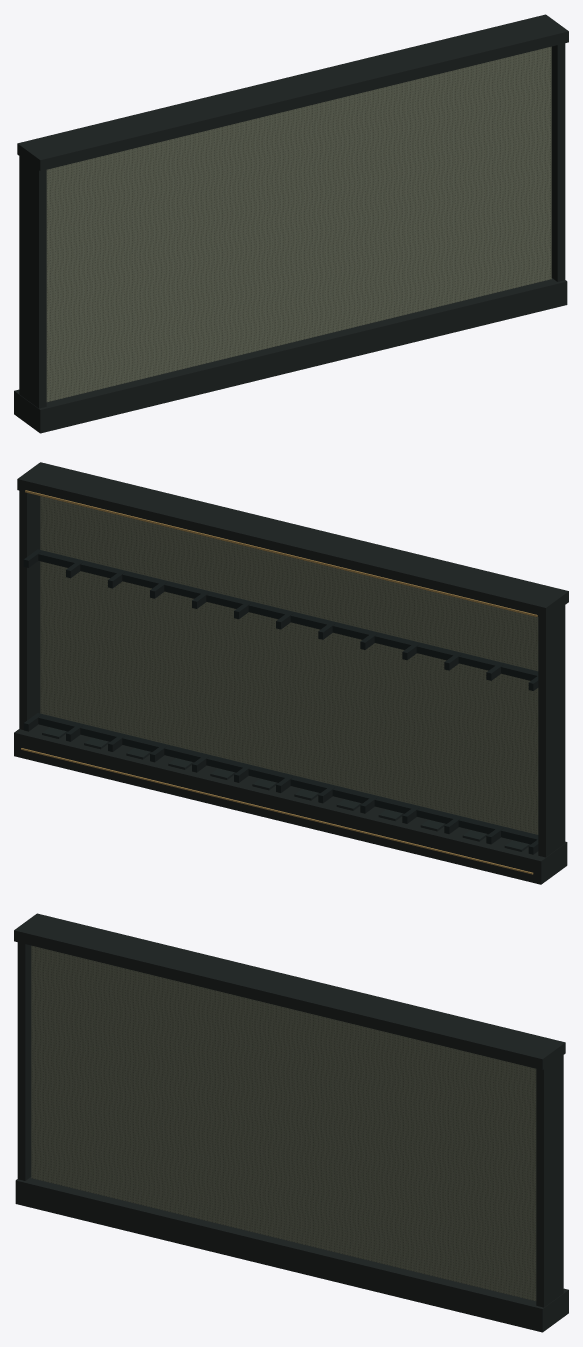
Rendered from rod_rack.glb.
3 renders of one model, top to bottom at view 1: azimuth 30°, elevation 25°; view 2: azimuth 150°, elevation 25°; view 3: azimuth 330°, elevation 25°, orthographic.
Visible parts, largest first — view 1: Pegboard_back, Top_canopy, Heavy_plinth, Oak_side, Oak_side.001; view 2: Pegboard_back, Top_canopy, Heavy_plinth, Oak_side, Back_cradle_rail, Back_cradle_rail.001, Oak_side.001, Brass_top_edge, Base_trim; view 3: Pegboard_back, Top_canopy, Heavy_plinth, Oak_side.001, Oak_side.
Part boxes in pixels (box(x1,y1,x2,y2)): Pegboard_back: box(46, 46, 551, 402); Top_canopy: box(17, 14, 568, 171); Heavy_plinth: box(14, 278, 567, 433); Oak_side: box(19, 156, 46, 408); Oak_side.001: box(551, 43, 565, 281); Pegboard_back: box(40, 496, 538, 834); Top_canopy: box(17, 462, 568, 618); Heavy_plinth: box(14, 724, 567, 884); Oak_side: box(538, 605, 565, 857); Back_cradle_rail: box(36, 549, 538, 680); Back_cradle_rail.001: box(36, 713, 538, 844); Oak_side.001: box(19, 490, 40, 729); Brass_top_edge: box(25, 490, 537, 616); Base_trim: box(21, 748, 533, 874); Pegboard_back: box(31, 945, 536, 1301); Top_canopy: box(14, 913, 565, 1070); Heavy_plinth: box(15, 1177, 568, 1332); Oak_side.001: box(536, 1055, 563, 1307); Oak_side: box(17, 942, 31, 1180).
Bounding box in the file's own units: 7.54 × 3.74 × 0.689.
5 materials, 1 textured.
